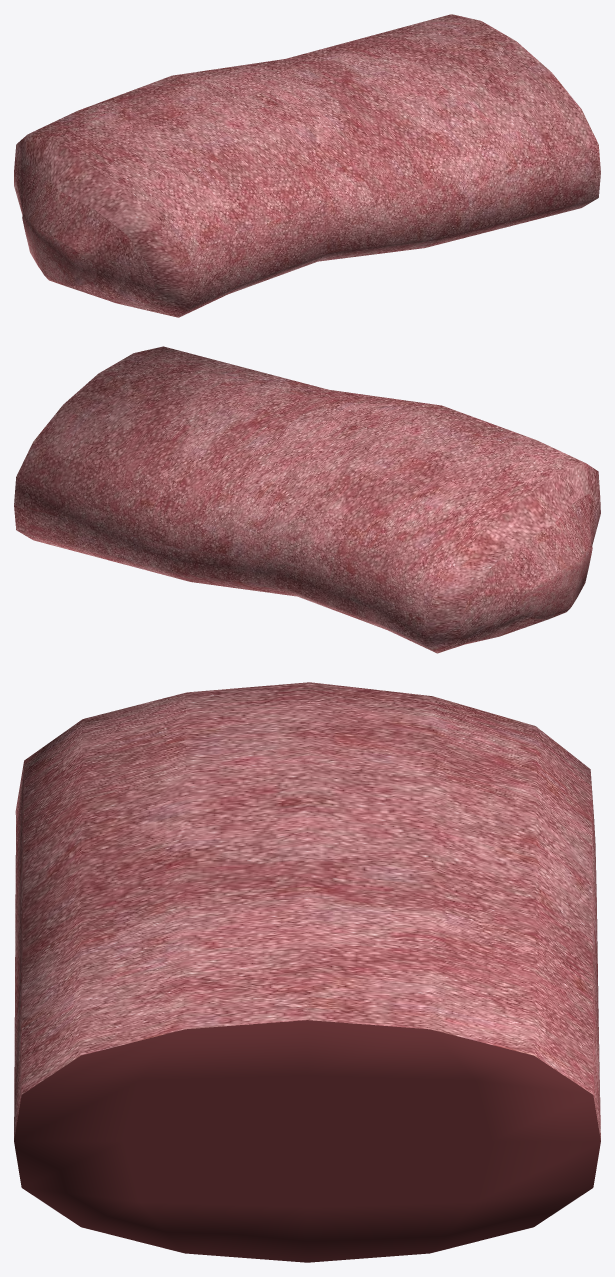
The model's file is Tongue.fbx.
The picture shows the model from 3 angles, top to bottom: view 1: azimuth 30°, elevation 25°; view 2: azimuth 150°, elevation 25°; view 3: azimuth 270°, elevation 25°; orthographic projection. The views are drawn at different scales.
Parts seen in each view (by area): view 1: Cylinder.012; view 2: Cylinder.012; view 3: Cylinder.012.
Boxes of the visible parts, <box> form: Cylinder.012: <box>14,14,600,317</box>; Cylinder.012: <box>14,346,600,653</box>; Cylinder.012: <box>14,682,600,1262</box>.
Bounding box in the file's own units: 217 × 68.82 × 132.
